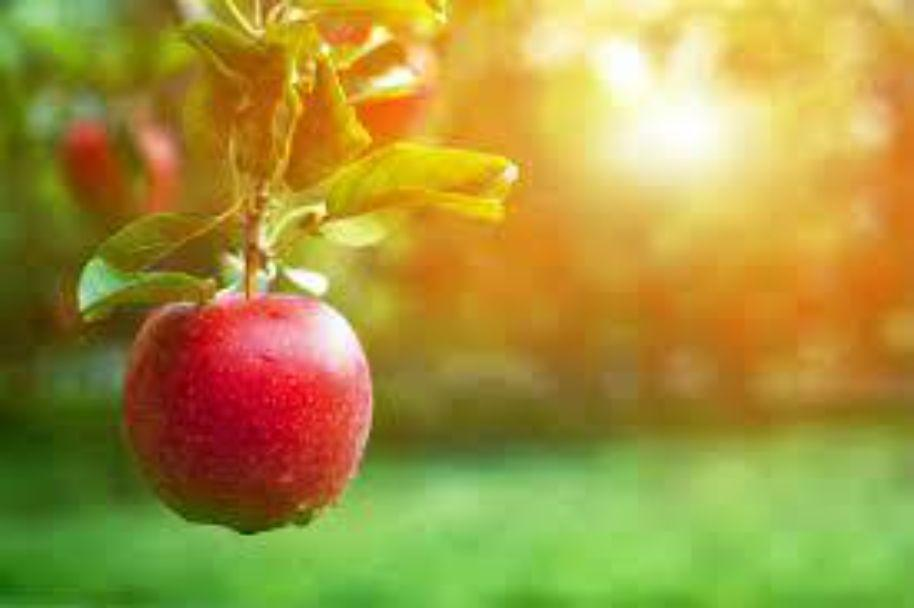HEALTHY: (101, 244, 395, 548)
